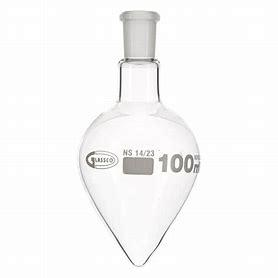Pear shaped flask: (68, 19, 201, 267)
